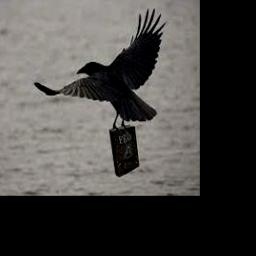Crow: (33, 7, 167, 128)
